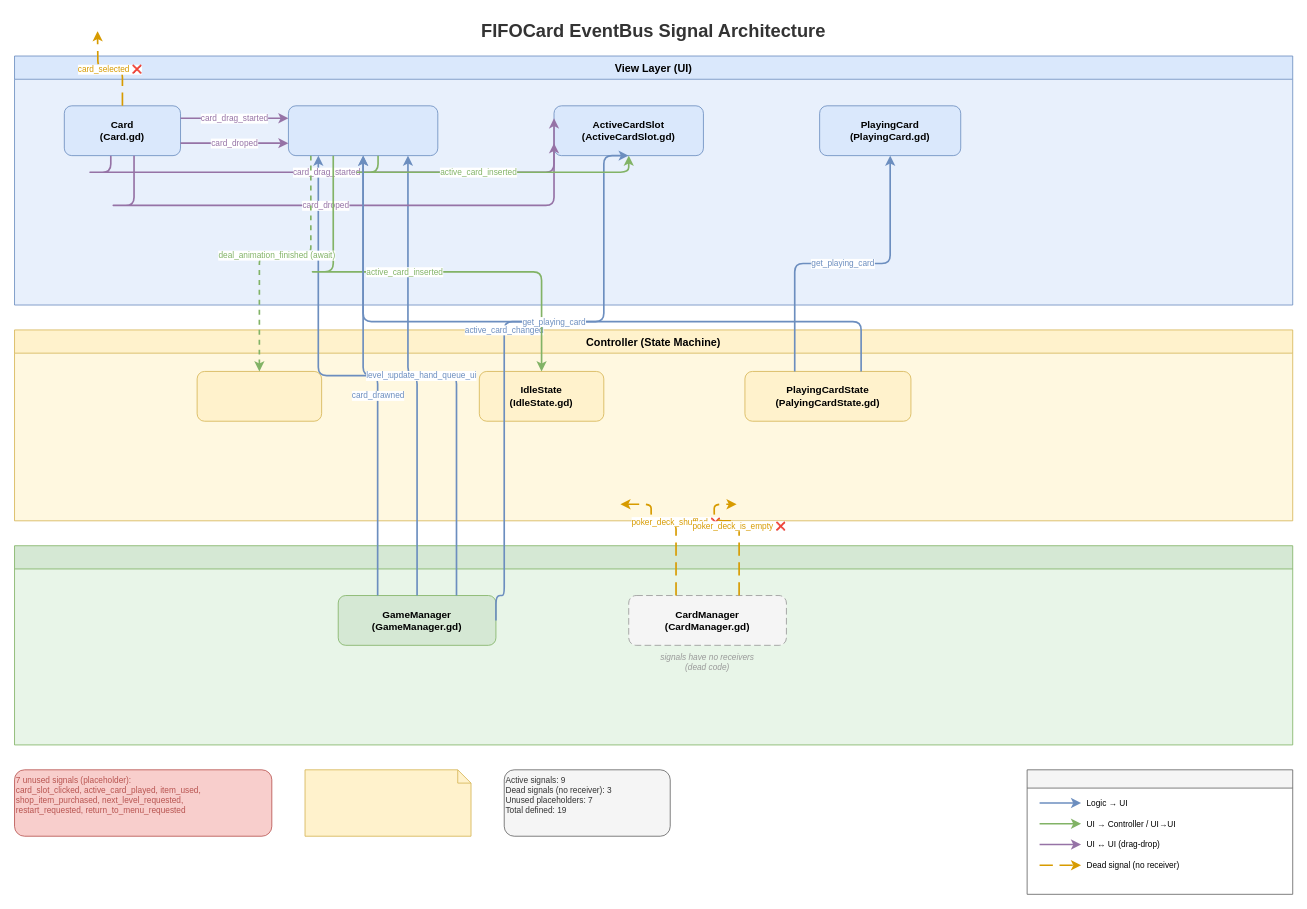
This 1307x909 diagram has some shape labels left out. The shapes that lost their labels are listed below. From the top down, each one's box as (x1, y1, x2, y2) in pixels, then its label:
(288, 105, 438, 156): HandCardQueue (HandCardQueue.gd)
(196, 371, 322, 421): SetupState (SetupState.gd)
(14, 545, 1293, 745): Model (Logic)
(304, 769, 471, 836): All signals go through EventBus (autoload) src/autoload/EventBus.gd
(1026, 769, 1293, 894): Legend
